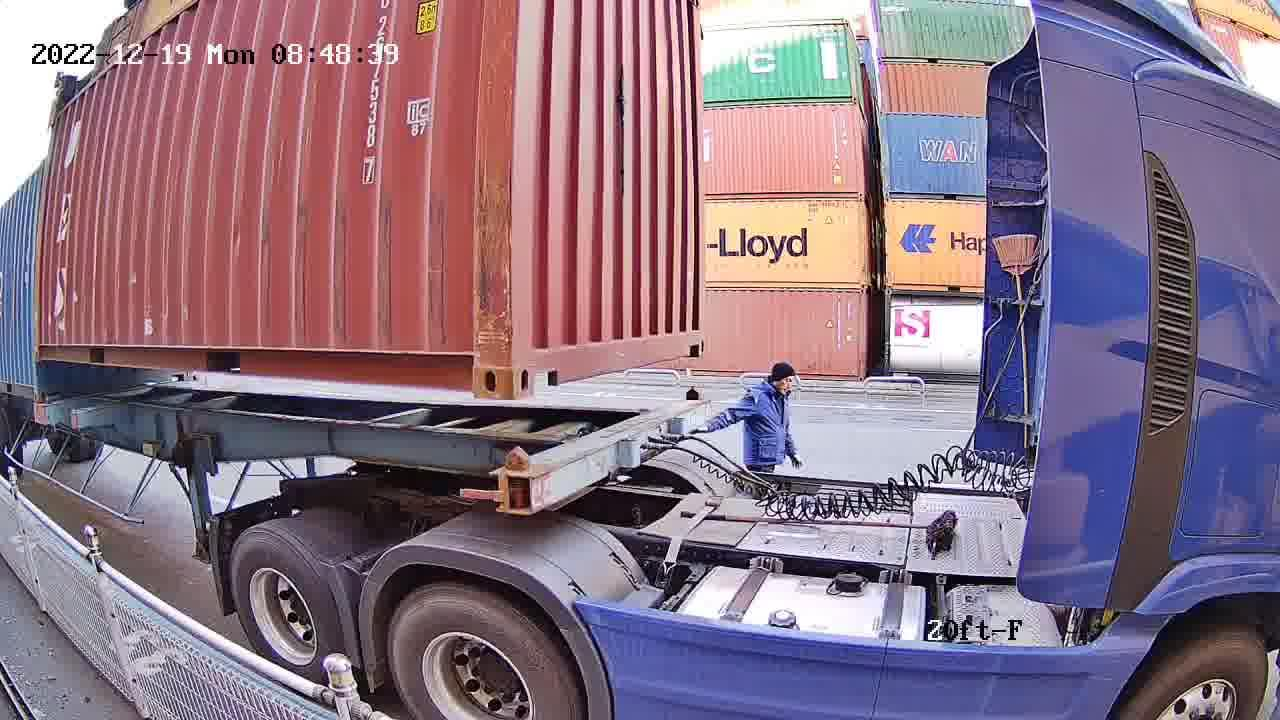Chassis: (492, 397, 707, 513)
Cone: (492, 449, 528, 514)
Hole_L: (512, 332, 560, 399)
Hole_R: (444, 332, 512, 402), (678, 319, 705, 359)
Tire: (389, 585, 571, 719), (231, 531, 343, 691)
